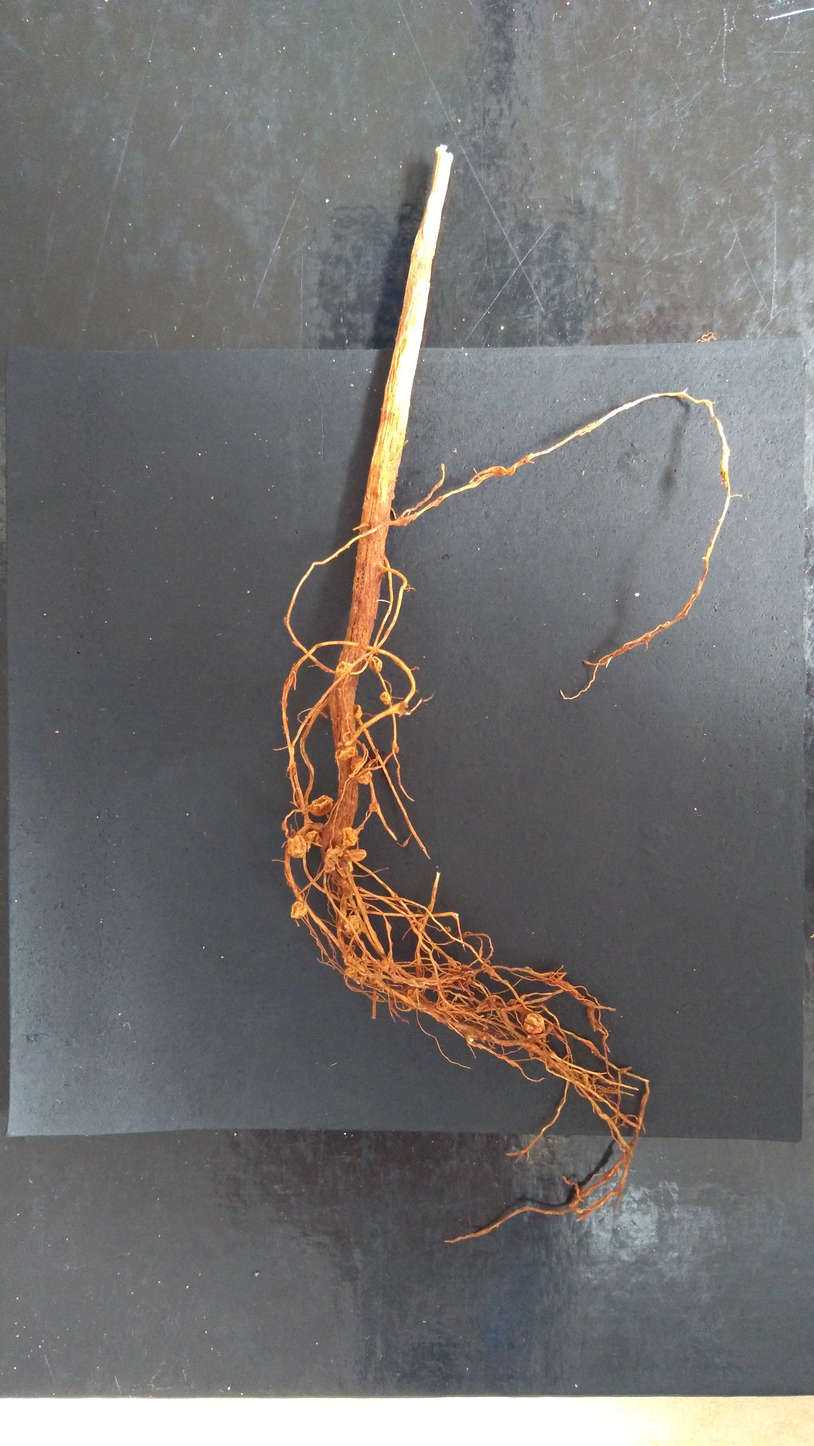nodule: (322, 843, 344, 874), (286, 833, 308, 860), (309, 794, 334, 817), (522, 1011, 545, 1035), (289, 899, 309, 921), (342, 913, 361, 936), (336, 858, 356, 879), (341, 825, 359, 848), (334, 659, 354, 679), (346, 847, 367, 863), (356, 768, 373, 787), (368, 655, 384, 674), (302, 830, 322, 845), (338, 745, 356, 761), (351, 703, 364, 722), (350, 755, 365, 771), (378, 690, 392, 706), (368, 801, 381, 814), (343, 965, 356, 977), (379, 958, 390, 971)
